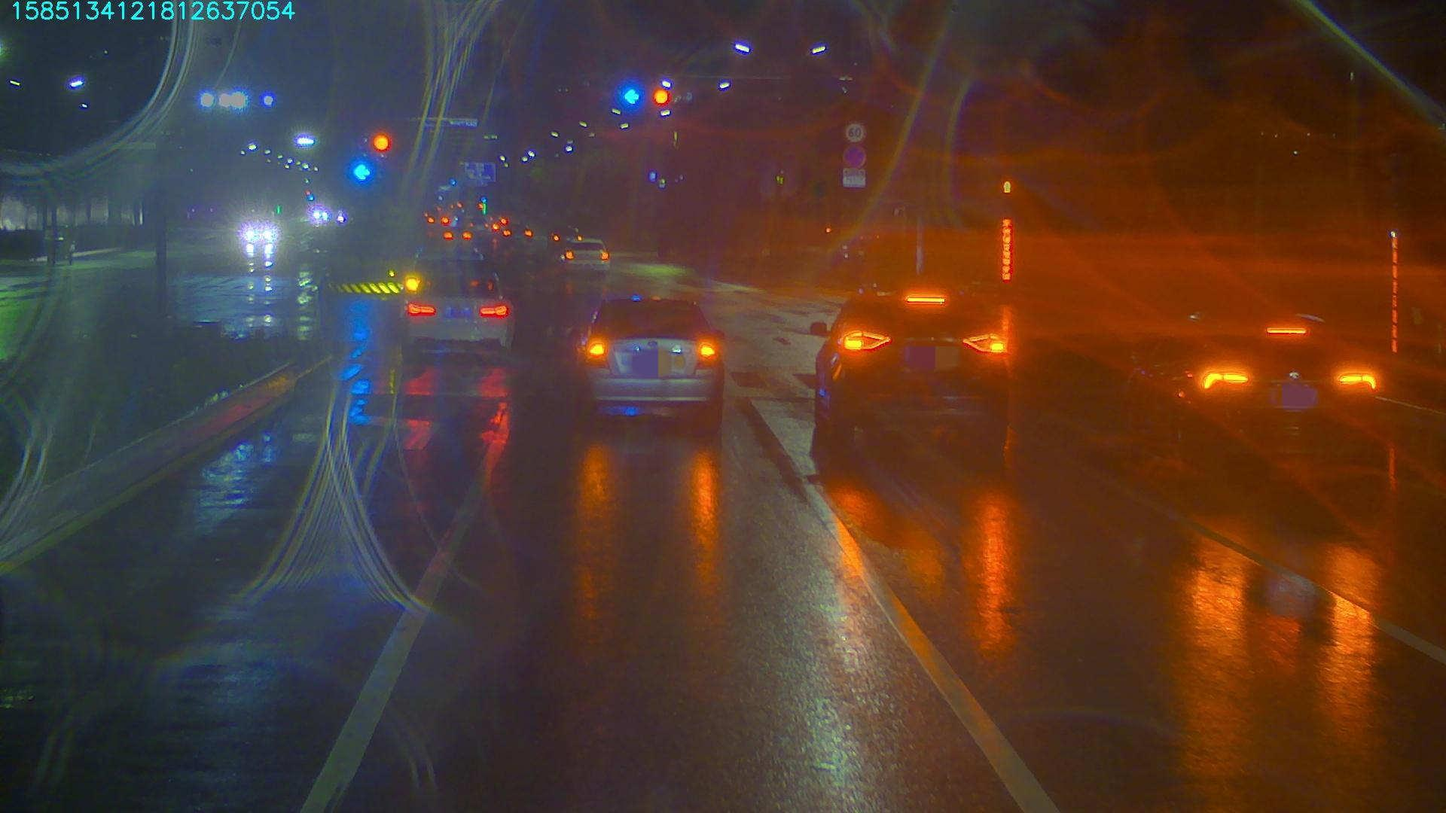green: (618, 81, 644, 111)
red: (654, 85, 672, 105)
